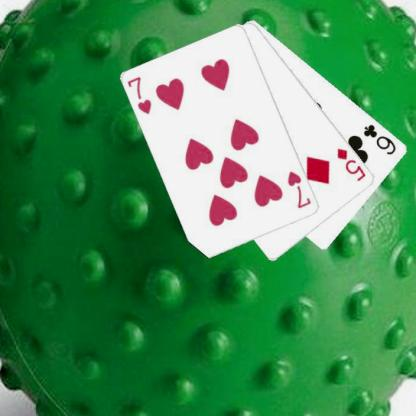5D: (334, 146, 368, 182)
6C: (361, 121, 398, 156)
7H: (284, 168, 312, 210), (125, 74, 153, 116)
